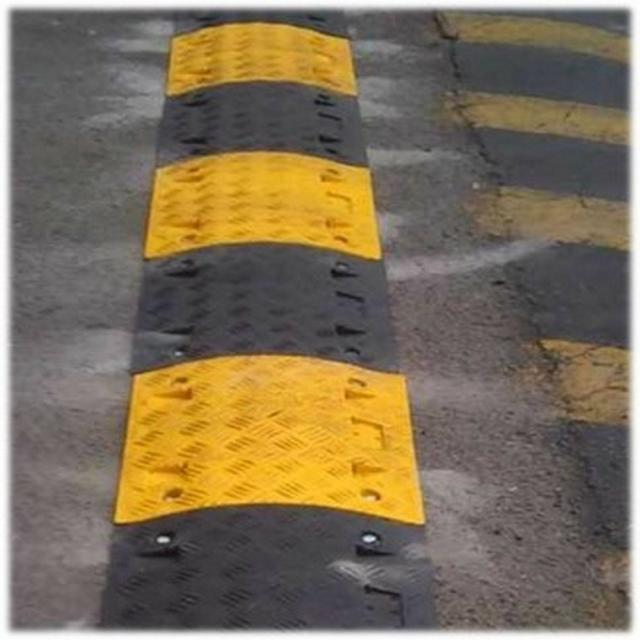speed-bump: (70, 7, 492, 640)
